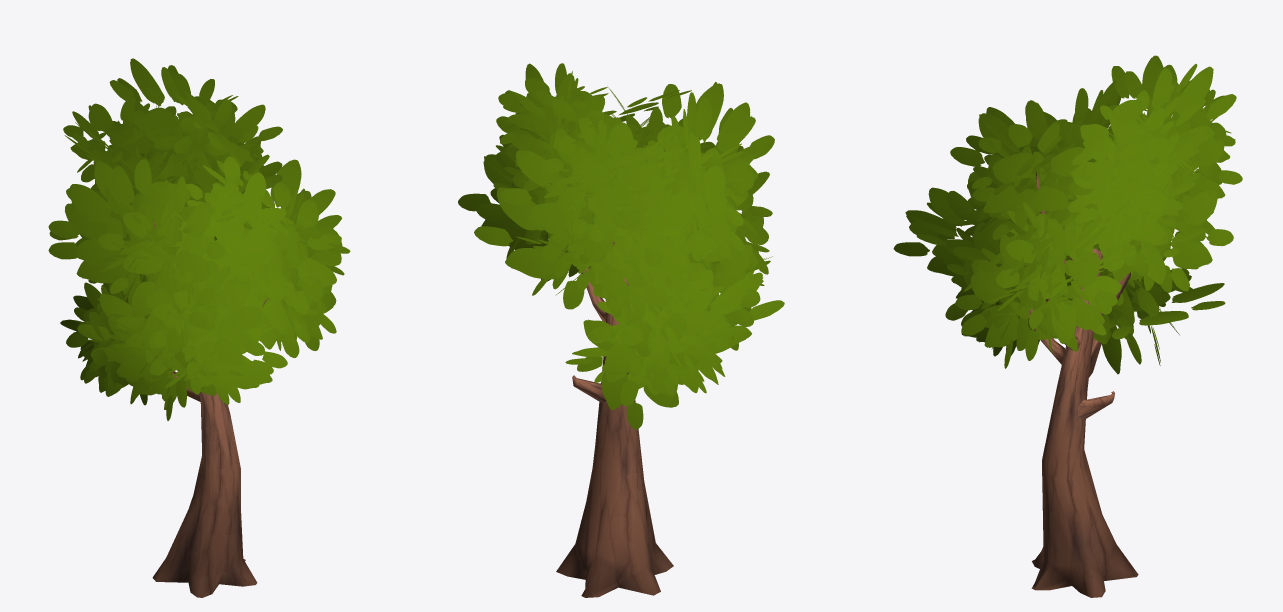
The model's file is tree_free_model_b_b_b_b_lo.glb.
The picture shows the model from 3 angles, left to right: view 1: azimuth 30°, elevation 25°; view 2: azimuth 150°, elevation 25°; view 3: azimuth 270°, elevation 25°; orthographic projection. The views are drawn at different scales.
Parts seen in each view (by area): view 1: CommonTree_5; view 2: CommonTree_5; view 3: CommonTree_5.
Part boxes in pixels (x1,y1,x2,y2): CommonTree_5: [48, 58, 350, 597]; CommonTree_5: [458, 63, 784, 597]; CommonTree_5: [893, 55, 1242, 597].
Bounding box in the file's own units: 4.91 × 7.71 × 5.22.
2 materials, 2 textured.
